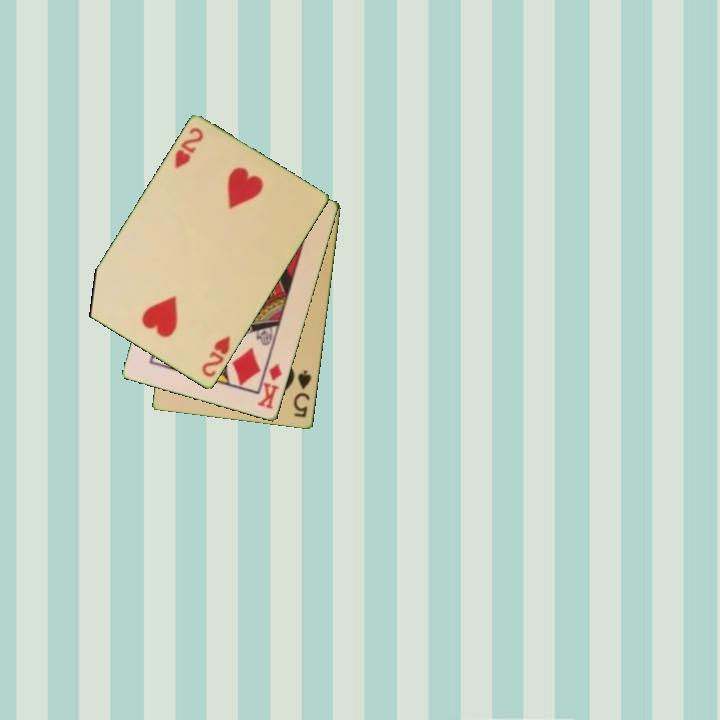2h: (198, 332, 233, 381), (171, 124, 206, 171)
5s: (290, 367, 315, 420)
Kd: (254, 361, 285, 412)
